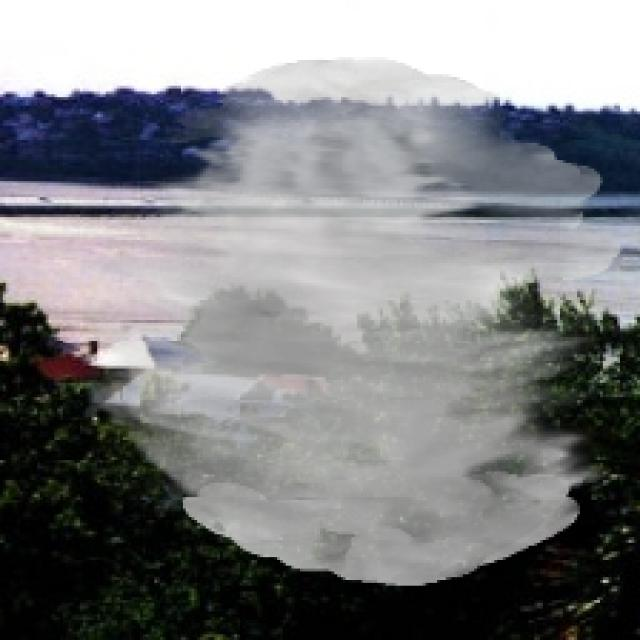smoke: (83, 57, 623, 586)
